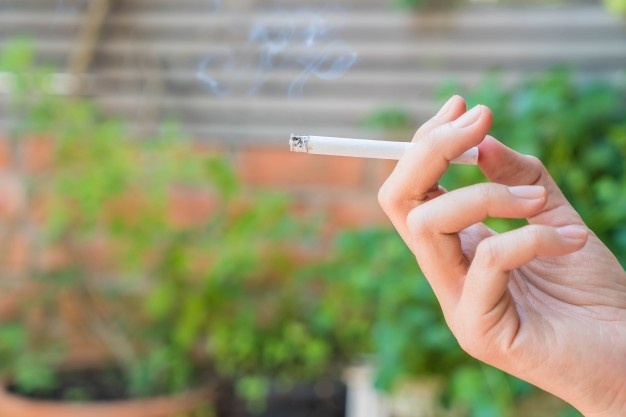sigaretta: (271, 130, 489, 168)
